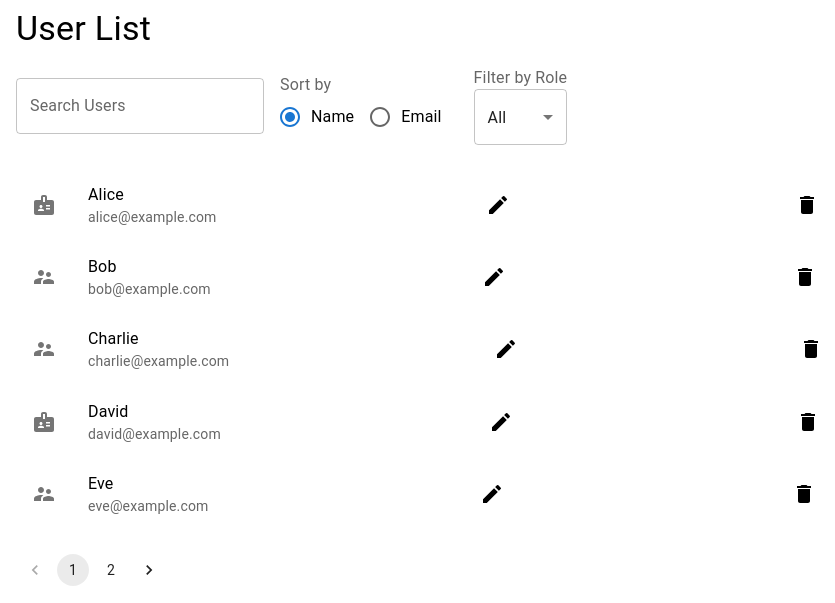
Test case: UserEmployeeListMittel › should filter users by role
Click the dropdown named "filter by role".
click(497, 118)  # box [488, 108, 506, 127]
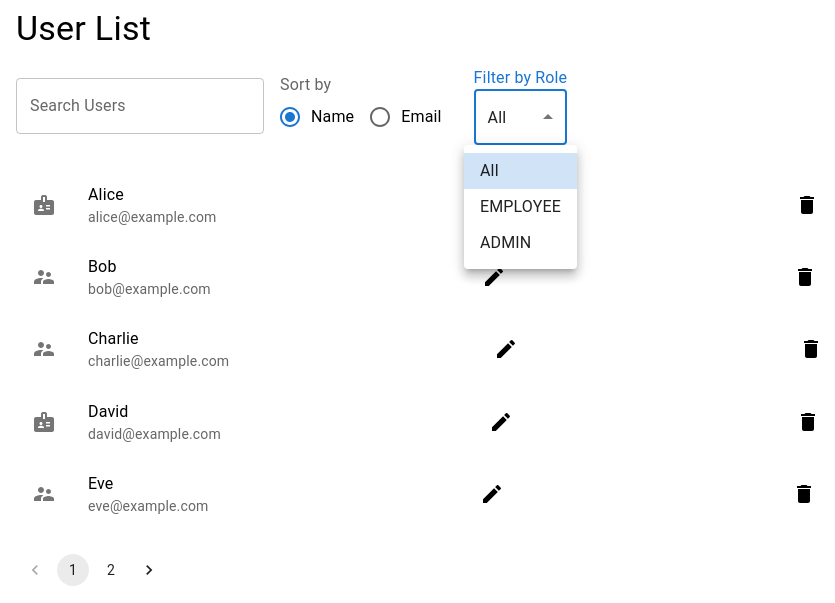
Click the option "EMPLOYEE".
click(520, 206)  # box [480, 197, 561, 216]
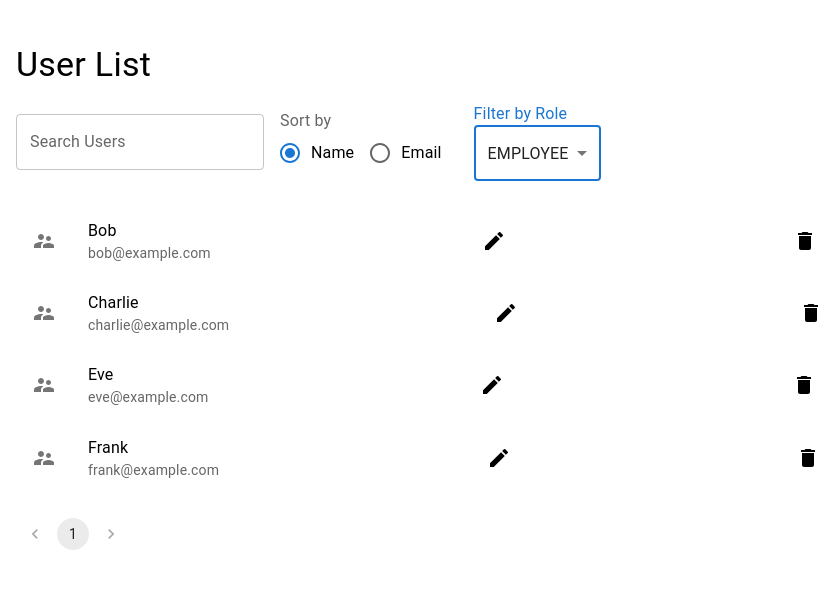
Expected: the text "Alice" is gone
